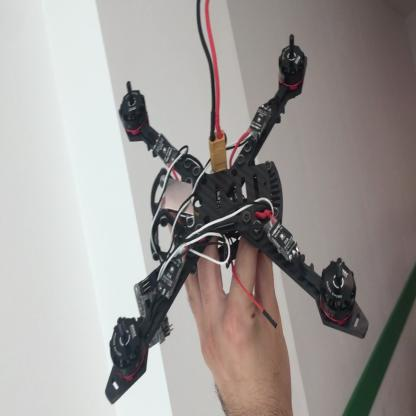drone: (106, 41, 372, 406)
